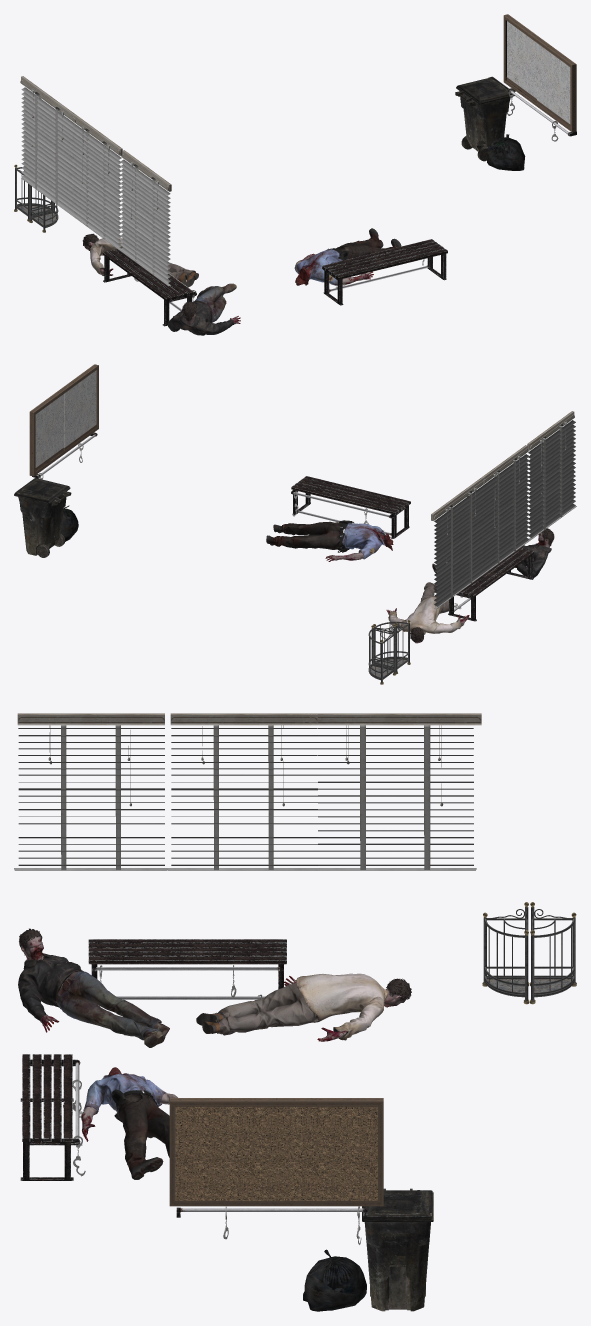
The model's file is sm301_01_313room_00.fbx.
3 views of the same model, one above another, from view 1: azimuth 30°, elevation 25°; view 2: azimuth 150°, elevation 25°; view 3: azimuth 270°, elevation 25° (orthographic). The views are drawn at different scales.
Visible parts, largest first — view 1: sm30203EastOfficeBlind01A00ms_1_Group_0_Sub_1__sm30_124_53c2, sm30124STARSBlind01A00ms_1_Group_0_Sub_1__sm30_124_STAR_150e, sm30136CorkBoard02A00ms_1_Group_0_Sub_2__sm30_136_CorkB_021c, sm30083GarbageCart01A00ms_1_Group_0_Sub_1__sm30_083_Gar_3130, sm30044ChairHandcuffs01A00ms_1_Group_1_Sub_1__sm30_044__43c1, sm12002ZombieCorpses00ms_1_Group_0_Sub_1__sm12_002_Zomb_ab9a, sm12002ZombieCorpses00ms_1_Group_0_Sub_3__sm12_002_Zomb_46a3, sm30136CorkBoard02A00ms_1_Group_0_Sub_1__sm30_136_CorkB_caab, sm30164UmbrellaStand01A00ms_1_Group_0_Sub_1__sm30_164_U_1826, sm20002GarbageBags01A00ms_1_Group_4_Sub_1__sm20_002_Gar_fda4, sm30044ChairHandcuffs01A00ms_1_Group_4_Sub_1__sm30_044__fd88, sm12002ZombieCorpses00ms_1_Group_0_Sub_4__sm12_002_Zomb_c596 (+2 smaller); view 2: sm30203EastOfficeBlind01A00ms_1_Group_0_Sub_1__sm30_124_53c2, sm30124STARSBlind01A00ms_1_Group_0_Sub_1__sm30_124_STAR_150e, sm30136CorkBoard02A00ms_1_Group_0_Sub_2__sm30_136_CorkB_021c, sm12002ZombieCorpses00ms_1_Group_0_Sub_1__sm12_002_Zomb_ab9a, sm30083GarbageCart01A00ms_1_Group_0_Sub_1__sm30_083_Gar_3130, sm30044ChairHandcuffs01A00ms_1_Group_1_Sub_1__sm30_044__43c1, sm30164UmbrellaStand01A00ms_1_Group_0_Sub_1__sm30_164_U_1826, sm12002ZombieCorpses00ms_1_Group_0_Sub_4__sm12_002_Zomb_c596, sm30136CorkBoard02A00ms_1_Group_0_Sub_1__sm30_136_CorkB_caab, sm30044ChairHandcuffs01A00ms_1_Group_4_Sub_1__sm30_044__fd88, sm12002ZombieCorpses00ms_1_Group_0_Sub_3__sm12_002_Zomb_46a3, sm30044ChairHandcuffs01A00ms_1_Group_3_Sub_1__sm30_044__250e (+1 smaller); view 3: sm30136CorkBoard02A00ms_1_Group_0_Sub_1__sm30_136_CorkB_caab, sm30203EastOfficeBlind01A00ms_1_Group_0_Sub_1__sm30_124_53c2, sm30124STARSBlind01A00ms_1_Group_0_Sub_1__sm30_124_STAR_150e, sm30044ChairHandcuffs01A00ms_1_Group_1_Sub_1__sm30_044__43c1, sm12002ZombieCorpses00ms_1_Group_0_Sub_4__sm12_002_Zomb_c596, sm30083GarbageCart01A00ms_1_Group_0_Sub_1__sm30_083_Gar_3130, sm12002ZombieCorpses00ms_1_Group_0_Sub_3__sm12_002_Zomb_46a3, sm12002ZombieCorpses00ms_1_Group_0_Sub_1__sm12_002_Zomb_ab9a, sm30164UmbrellaStand01A00ms_1_Group_0_Sub_1__sm30_164_U_1826, sm20002GarbageBags01A00ms_1_Group_4_Sub_1__sm20_002_Gar_fda4, sm30044ChairHandcuffs01A00ms_1_Group_4_Sub_1__sm30_044__fd88, sm30044ChairHandcuffs01A00ms_1_Group_2_Sub_1__sm30_044__8d9b.
Boxes of the visible parts, x1,y1,x2,y2 form: sm30203EastOfficeBlind01A00ms_1_Group_0_Sub_1__sm30_124_53c2: [71, 114, 171, 286]; sm30124STARSBlind01A00ms_1_Group_0_Sub_1__sm30_124_STAR_150e: [20, 76, 77, 215]; sm30136CorkBoard02A00ms_1_Group_0_Sub_2__sm30_136_CorkB_021c: [507, 21, 570, 123]; sm30083GarbageCart01A00ms_1_Group_0_Sub_1__sm30_083_Gar_3130: [455, 76, 514, 161]; sm30044ChairHandcuffs01A00ms_1_Group_1_Sub_1__sm30_044__43c1: [108, 239, 444, 311]; sm12002ZombieCorpses00ms_1_Group_0_Sub_1__sm12_002_Zomb_ab9a: [294, 228, 401, 285]; sm12002ZombieCorpses00ms_1_Group_0_Sub_3__sm12_002_Zomb_46a3: [167, 283, 240, 335]; sm30136CorkBoard02A00ms_1_Group_0_Sub_1__sm30_136_CorkB_caab: [503, 14, 576, 132]; sm30164UmbrellaStand01A00ms_1_Group_0_Sub_1__sm30_164_U_1826: [14, 164, 58, 232]; sm20002GarbageBags01A00ms_1_Group_4_Sub_1__sm20_002_Gar_fda4: [486, 134, 525, 170]; sm30044ChairHandcuffs01A00ms_1_Group_4_Sub_1__sm30_044__fd88: [103, 249, 447, 300]; sm12002ZombieCorpses00ms_1_Group_0_Sub_4__sm12_002_Zomb_c596: [84, 237, 198, 287]; sm30203EastOfficeBlind01A00ms_1_Group_0_Sub_1__sm30_124_53c2: [481, 411, 576, 573]; sm30124STARSBlind01A00ms_1_Group_0_Sub_1__sm30_124_STAR_150e: [431, 476, 485, 609]; sm30136CorkBoard02A00ms_1_Group_0_Sub_2__sm30_136_CorkB_021c: [35, 370, 96, 467]; sm12002ZombieCorpses00ms_1_Group_0_Sub_1__sm12_002_Zomb_ab9a: [266, 520, 393, 561]; sm30083GarbageCart01A00ms_1_Group_0_Sub_1__sm30_083_Gar_3130: [14, 478, 71, 557]; sm30044ChairHandcuffs01A00ms_1_Group_1_Sub_1__sm30_044__43c1: [291, 478, 528, 611]; sm30164UmbrellaStand01A00ms_1_Group_0_Sub_1__sm30_164_U_1826: [368, 620, 410, 684]; sm12002ZombieCorpses00ms_1_Group_0_Sub_4__sm12_002_Zomb_c596: [386, 582, 469, 643]; sm30136CorkBoard02A00ms_1_Group_0_Sub_1__sm30_136_CorkB_caab: [29, 364, 98, 476]; sm30044ChairHandcuffs01A00ms_1_Group_4_Sub_1__sm30_044__fd88: [304, 476, 533, 597]; sm12002ZombieCorpses00ms_1_Group_0_Sub_3__sm12_002_Zomb_46a3: [432, 530, 551, 577]; sm30044ChairHandcuffs01A00ms_1_Group_3_Sub_1__sm30_044__250e: [389, 505, 476, 621]; sm30136CorkBoard02A00ms_1_Group_0_Sub_1__sm30_136_CorkB_caab: [169, 1098, 383, 1206]; sm30203EastOfficeBlind01A00ms_1_Group_0_Sub_1__sm30_124_53c2: [14, 713, 320, 870]; sm30124STARSBlind01A00ms_1_Group_0_Sub_1__sm30_124_STAR_150e: [309, 713, 481, 870]; sm30044ChairHandcuffs01A00ms_1_Group_1_Sub_1__sm30_044__43c1: [32, 943, 286, 1142]; sm12002ZombieCorpses00ms_1_Group_0_Sub_4__sm12_002_Zomb_c596: [196, 973, 409, 1041]; sm30083GarbageCart01A00ms_1_Group_0_Sub_1__sm30_083_Gar_3130: [362, 1188, 433, 1311]; sm12002ZombieCorpses00ms_1_Group_0_Sub_3__sm12_002_Zomb_46a3: [18, 933, 169, 1047]; sm12002ZombieCorpses00ms_1_Group_0_Sub_1__sm12_002_Zomb_ab9a: [81, 1067, 177, 1179]; sm30164UmbrellaStand01A00ms_1_Group_0_Sub_1__sm30_164_U_1826: [482, 902, 576, 1004]; sm20002GarbageBags01A00ms_1_Group_4_Sub_1__sm20_002_Gar_fda4: [303, 1249, 366, 1311]; sm30044ChairHandcuffs01A00ms_1_Group_4_Sub_1__sm30_044__fd88: [22, 939, 286, 1141]; sm30044ChairHandcuffs01A00ms_1_Group_2_Sub_1__sm30_044__8d9b: [20, 964, 97, 1180].
Size of the model in its own units: 7.31 by 2.55 by 4.94.
